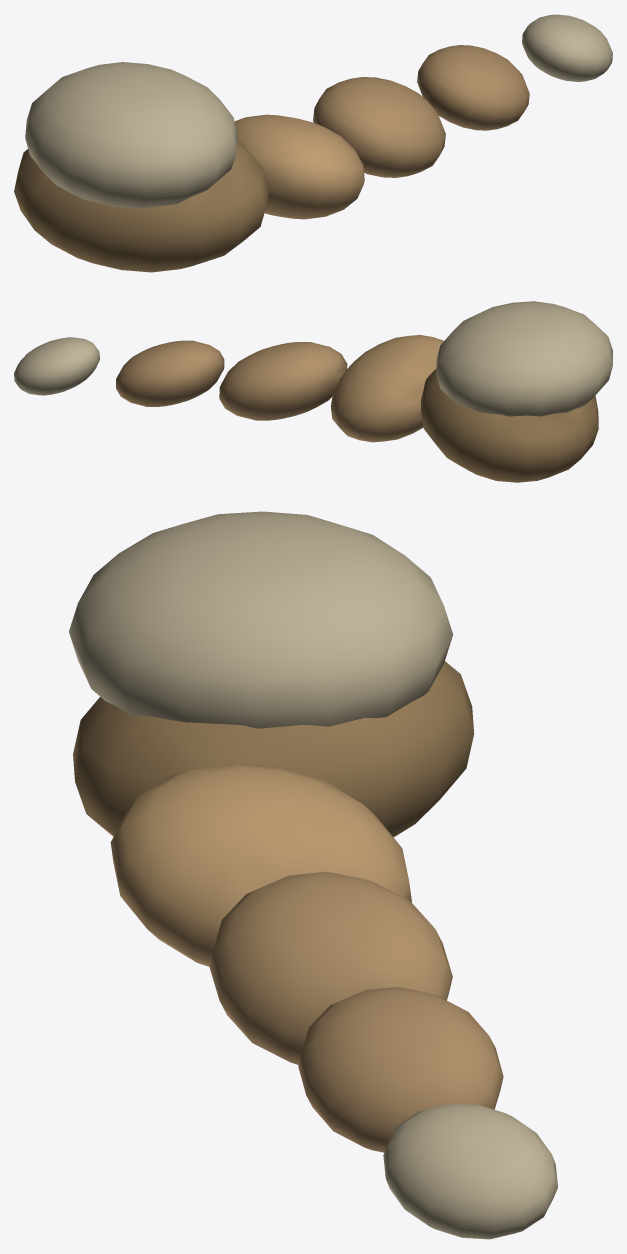
File: weaver_cairn_c.glb
3 renders of one model, top to bottom at view 1: azimuth 30°, elevation 25°; view 2: azimuth 150°, elevation 25°; view 3: azimuth 270°, elevation 25°, orthographic. The views are drawn at different scales.
Visible parts, largest first — view 1: Surface; view 2: Surface; view 3: Surface.
Boxes of the visible parts, x1=… form: Surface: x1=14, y1=14, x2=612, y2=272; Surface: x1=14, y1=301, x2=612, y2=482; Surface: x1=69, y1=511, x2=557, y2=1239.
Bounding box in the file's own units: 2.09 × 0.5732 × 0.8412.
